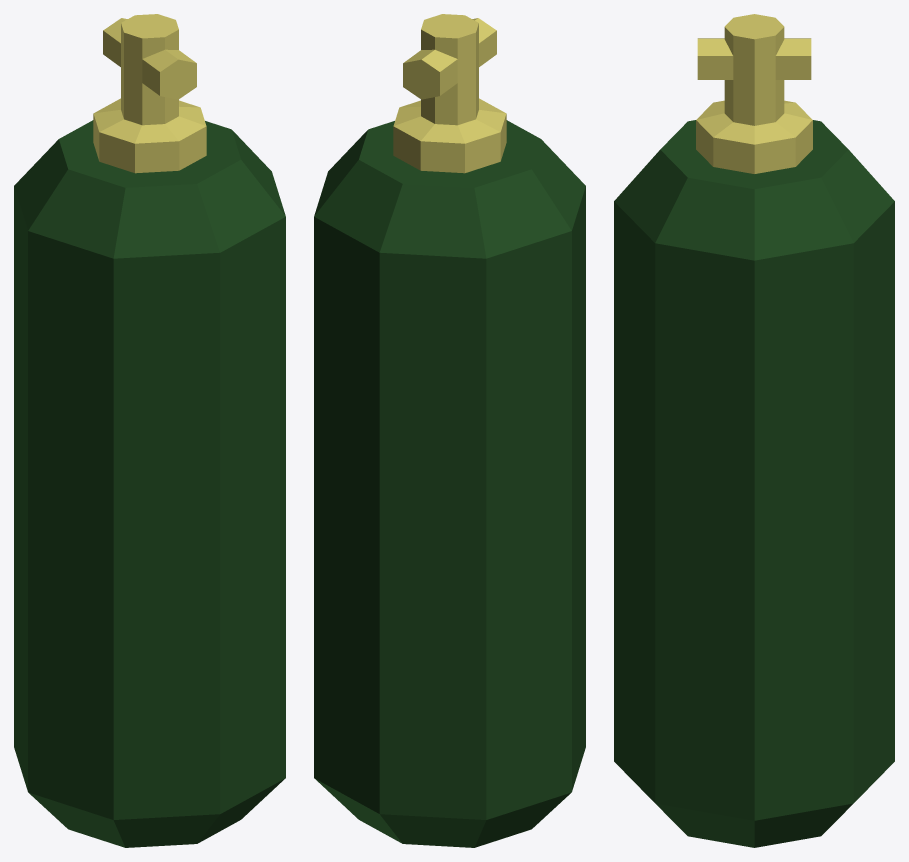
Rendered from OxygenTank_01.fbx.
3 renders of one model, left to right at view 1: azimuth 30°, elevation 25°; view 2: azimuth 150°, elevation 25°; view 3: azimuth 270°, elevation 25°, orthographic.
Parts seen in each view (by area): view 1: OxygenTank_01; view 2: OxygenTank_01; view 3: OxygenTank_01.
Boxes of the visible parts, x1,y1,x2,y2 form: OxygenTank_01: [14, 14, 285, 847]; OxygenTank_01: [314, 14, 585, 847]; OxygenTank_01: [614, 14, 894, 847].
Bounding box in the file's own units: 33.74 × 104 × 33.74.
